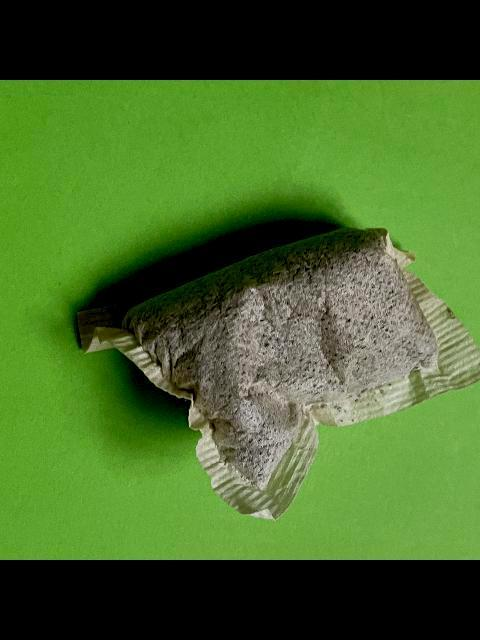teabag: (71, 225, 480, 521)
